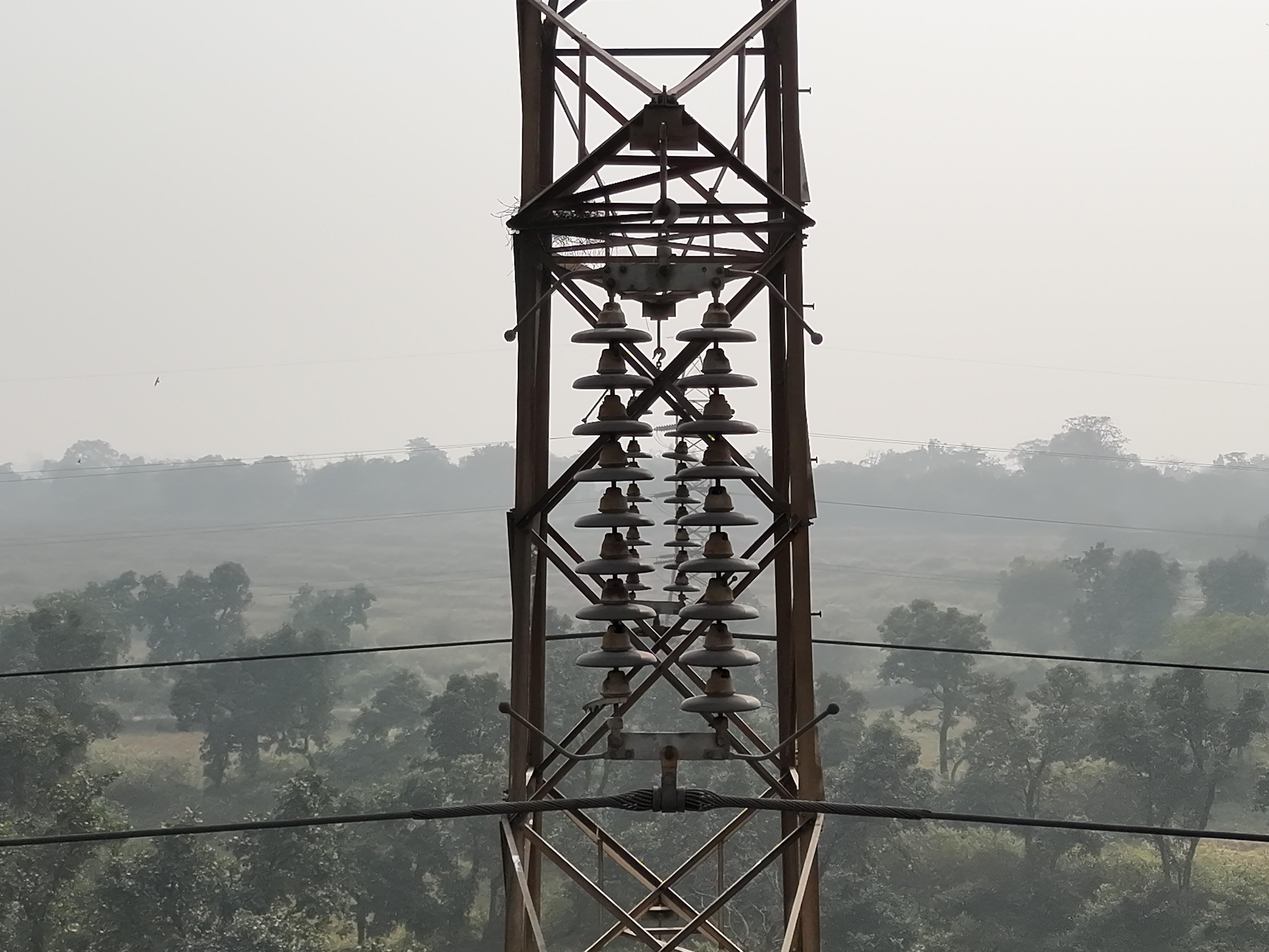broken_insulator: (581, 683, 638, 719)
